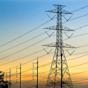power_tower: (43, 3, 75, 88)
